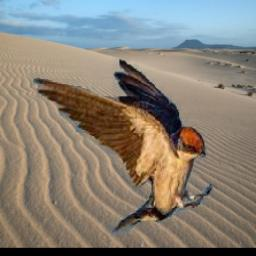Swallow: (29, 59, 212, 247)
